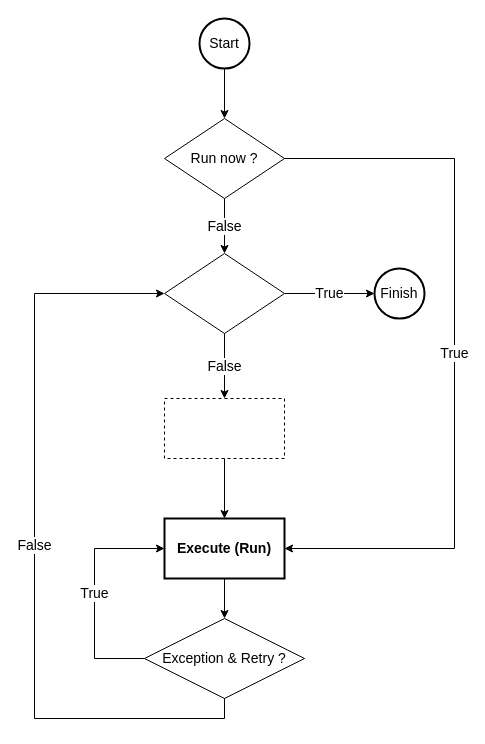
This 485x744 diagram has some shape labels left out. The shapes that lost their labels are listed below. From the top down, each one's box as (x1, y1, x2, y2) in pixels, then its label:
(164, 252, 284, 334): Check finish ?
(164, 398, 284, 458): Wait to next run
